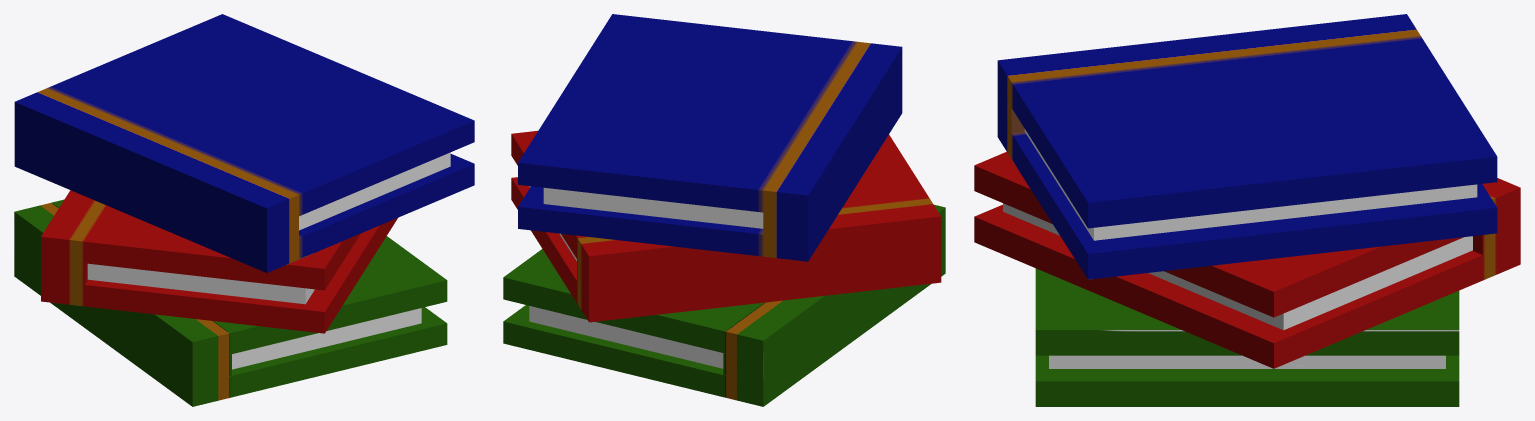
The model's file is books.fbx.
The picture shows the model from 3 angles, left to right: view 1: azimuth 30°, elevation 25°; view 2: azimuth 150°, elevation 25°; view 3: azimuth 270°, elevation 25°; orthographic projection. The views are drawn at different scales.
Visible parts, largest first — view 1: pCube4, pCube3, pCube5; view 2: pCube4, pCube5, pCube3; view 3: pCube4, pCube5, pCube3.
Part boxes in pixels (bbox=[...]): pCube4: bbox=[14, 14, 474, 272]; pCube3: bbox=[14, 199, 447, 406]; pCube5: bbox=[41, 190, 397, 333]; pCube4: bbox=[518, 14, 902, 261]; pCube5: bbox=[511, 130, 941, 322]; pCube3: bbox=[503, 204, 945, 406]; pCube4: bbox=[997, 14, 1497, 279]; pCube5: bbox=[974, 151, 1520, 368]; pCube3: bbox=[1035, 268, 1459, 406].
Bounding box in the file's own units: 1.29 × 0.6064 × 1.29.
